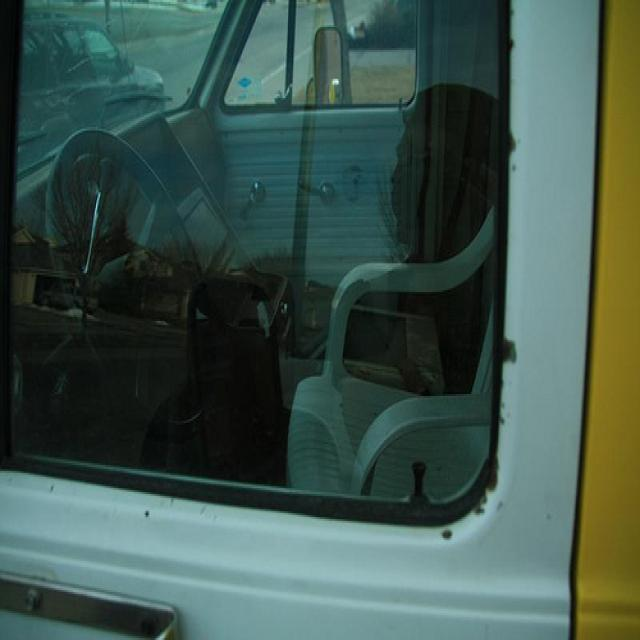Vehicle: (0, 0, 640, 640), (12, 11, 170, 164)
